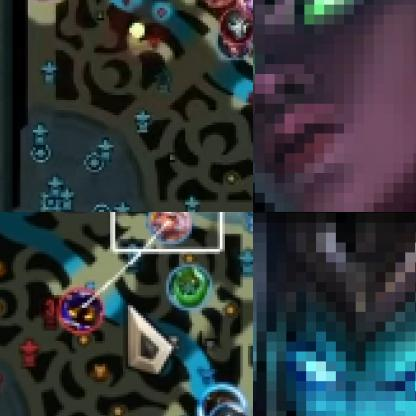Draven: (215, 26, 252, 61)
Jhin: (217, 9, 252, 44)
Kalista: (253, 212, 415, 415)
Qiyana: (149, 212, 194, 243), (201, 0, 239, 8)
Senna: (253, 0, 415, 211), (208, 404, 252, 415)
Veigar: (59, 289, 104, 332)
Zac: (166, 264, 212, 310)
